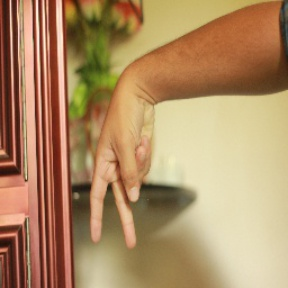Y: (79, 90, 170, 253)
